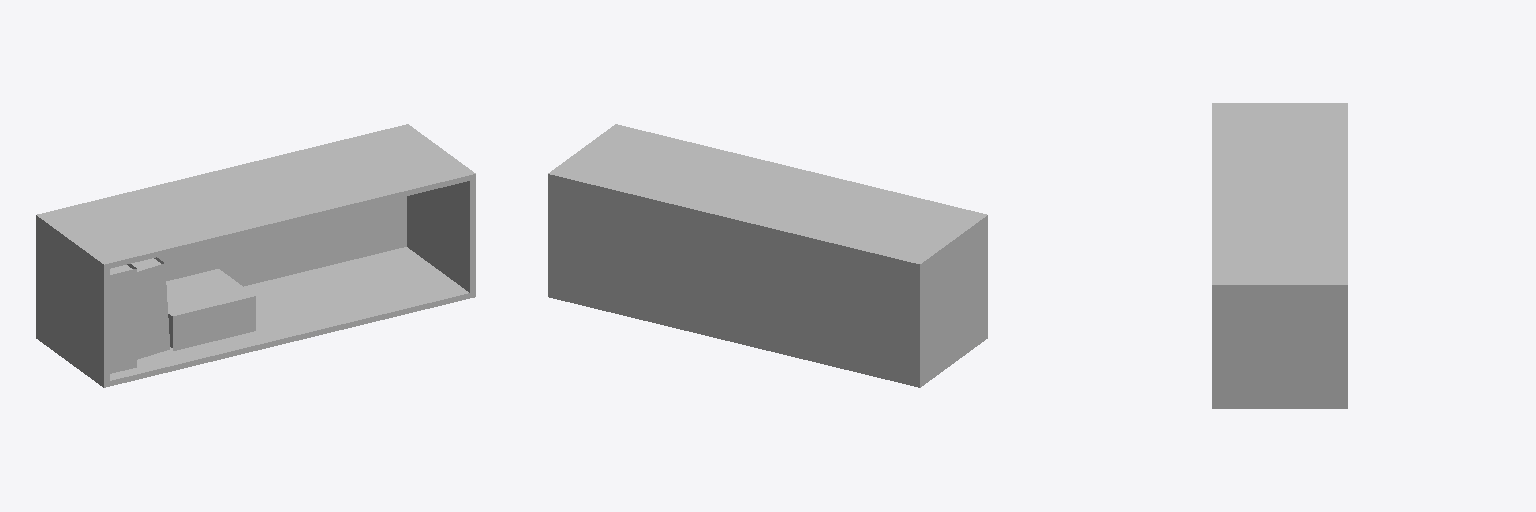
Rendered from Libreria.obj.
3 renders of one model, left to right at view 1: azimuth 30°, elevation 25°; view 2: azimuth 150°, elevation 25°; view 3: azimuth 270°, elevation 25°, orthographic.
Parts seen in each view (by area): view 1: mobile_Cube, libro3_Cube.004, libro2_Cube.003, libro1_Cube.002; view 2: mobile_Cube; view 3: mobile_Cube.
Boxes of the visible parts, x1,y1,x2,y2 form: mobile_Cube: [36, 124, 475, 387]; libro3_Cube.004: [166, 269, 255, 350]; libro2_Cube.003: [131, 257, 169, 359]; libro1_Cube.002: [110, 264, 136, 373]; mobile_Cube: [548, 124, 987, 387]; mobile_Cube: [1212, 103, 1347, 408].
Bounding box in the file's own units: 3.42 × 1.08 × 1.09.